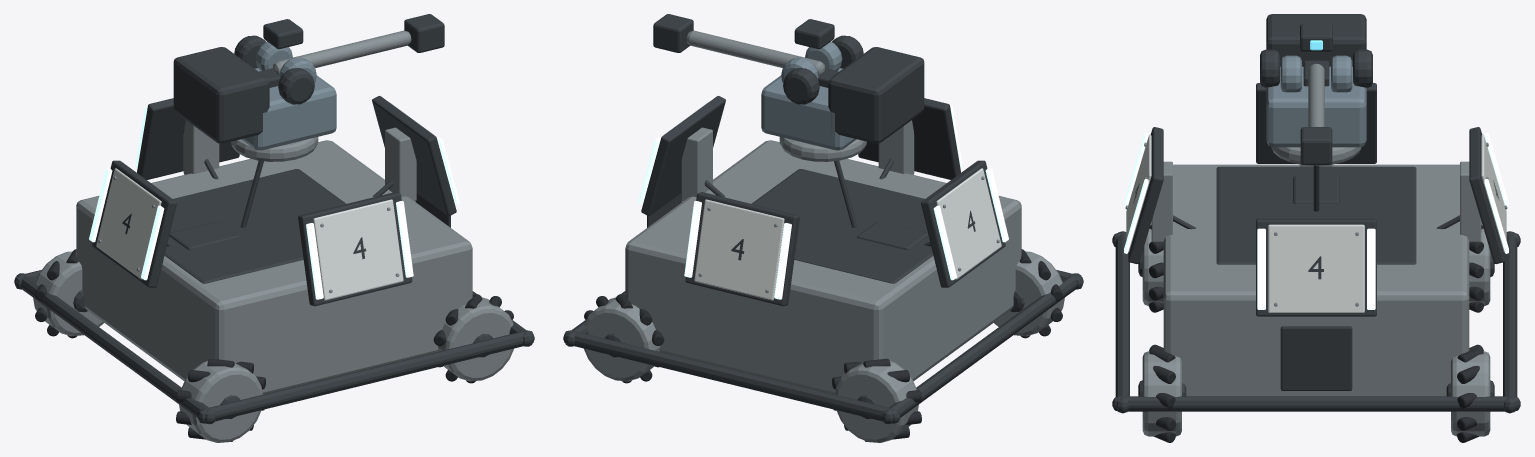
Rendered from robot-4-spec2026.glb.
3 renders of one model, left to right at view 1: azimuth 30°, elevation 25°; view 2: azimuth 150°, elevation 25°; view 3: azimuth 270°, elevation 25°, orthographic. The views are drawn at different scales.
Parts seen in each view (by area): view 1: Chassis_RobotMatteAluminum, Chassis_RobotMatteGraphite, Chassis_CeramicPanels, Turret_RobotMatteGraphite, GimbalCheeks, MecanumHub, MecanumHub.002, Chassis_TeamGlow, GunPitch_RobotMatteGraphite, MecanumHub.001, MatteAluminumBarrel, YawBearing (+4 smaller); view 2: Chassis_RobotMatteAluminum, Chassis_RobotMatteGraphite, Chassis_CeramicPanels, Turret_RobotMatteGraphite, GimbalCheeks, MecanumHub.001, MecanumHub.003, Chassis_TeamGlow, GunPitch_RobotMatteGraphite, MecanumHub, MatteAluminumBarrel, YawBearing (+4 smaller); view 3: Chassis_RobotMatteAluminum, Chassis_RobotMatteGraphite, Chassis_CeramicPanels, Turret_RobotMatteGraphite, GimbalCheeks, Chassis_TeamGlow, GunPitch_RobotMatteGraphite, MecanumHub.002, MecanumHub.003, GunPitch_TeamPrimaryShell, Wheel_2_TireRubber, Wheel_3_TireRubber (+6 smaller).
Part boxes in pixels (x1,y1,x2,y2): Chassis_RobotMatteAluminum: (76,120,472,394); Chassis_RobotMatteGraphite: (14,96,534,424); Chassis_CeramicPanels: (96,102,433,300); Turret_RobotMatteGraphite: (173,35,314,227); GimbalCheeks: (241,68,336,150); MecanumHub: (179,360,262,442); MecanumHub.002: (438,297,513,381); Chassis_TeamGlow: (89,99,459,299); GunPitch_RobotMatteGraphite: (259,14,444,87); MecanumHub.001: (33,251,103,336); MatteAluminumBarrel: (272,30,411,74); YawBearing: (231,137,318,161); Chassis_RobotMatteAluminum: (625,120,1021,394); Chassis_RobotMatteGraphite: (563,96,1083,424); Chassis_CeramicPanels: (664,102,1001,300); Turret_RobotMatteGraphite: (783,35,924,227); GimbalCheeks: (761,68,856,150); MecanumHub.001: (835,360,918,442); MecanumHub.003: (584,297,659,381); Chassis_TeamGlow: (638,99,1008,299); GunPitch_RobotMatteGraphite: (653,14,838,87); MecanumHub: (994,251,1064,336); MatteAluminumBarrel: (686,30,825,74); YawBearing: (779,137,866,161); Chassis_RobotMatteAluminum: (1125,142,1507,396); Chassis_RobotMatteGraphite: (1112,83,1520,413); Chassis_CeramicPanels: (1126,134,1506,312); Turret_RobotMatteGraphite: (1260,14,1372,211); GimbalCheeks: (1266,66,1366,147); Chassis_TeamGlow: (1124,132,1508,309); GunPitch_RobotMatteGraphite: (1300,24,1332,164); MecanumHub.002: (1142,351,1181,436); MecanumHub.003: (1451,351,1490,436); GunPitch_TeamPrimaryShell: (1280,55,1352,92); Wheel_2_TireRubber: (1149,344,1175,442); Wheel_3_TireRubber: (1457,344,1483,442).
Bounding box in the file's own units: 0.5742 × 0.5326 × 0.57.
